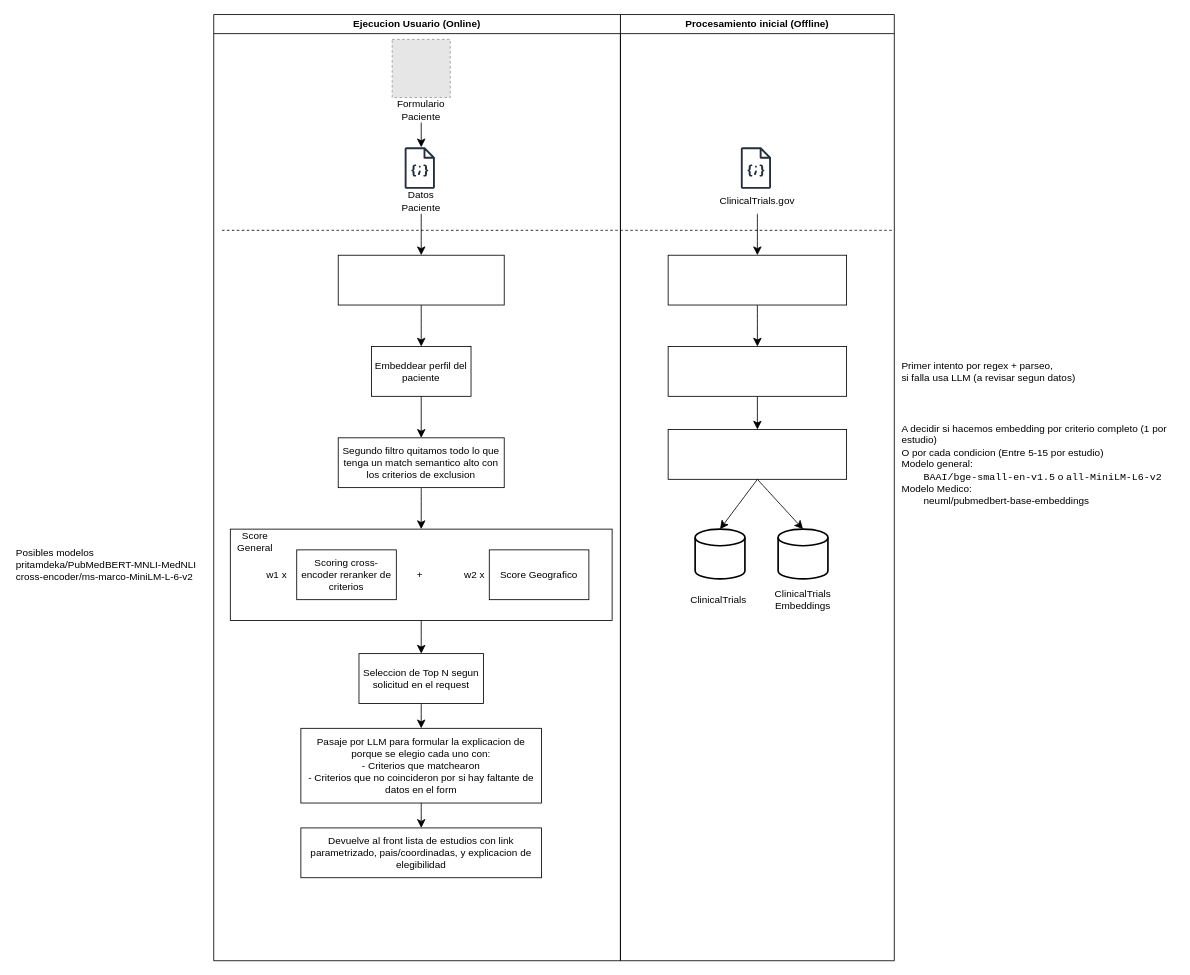
Image size: 1190x975. Some labels were removed from this diagram. Grey dashed boxes stand in for pictures. The centre of each missing label's shape, as x and y in pixels:
"Generar embedding de inclusion e exclusion" belongs at (757,454).
"Normalizacion de Diagnostico ( scispaCy ) Condition, Keyword, Mesh" belongs at (757,279).
"Primer filtro de estudios - Por diagnostico - Por estado de recluting - Por ECOG" belongs at (420,279).
"Separa de la columna elegibility criteria los de inclusion vs exclusion" belongs at (757,371).
